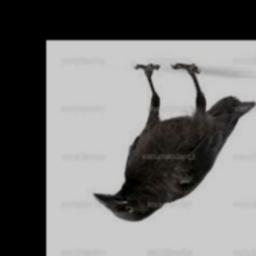Crow: (93, 63, 256, 222)
